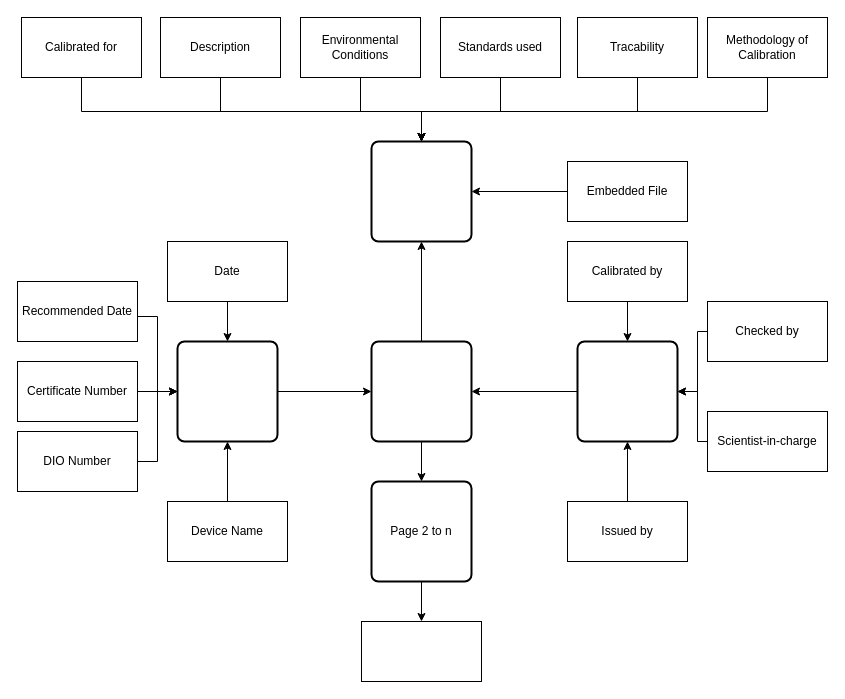
Image size: 845x699. Some labels were removed from this diagram. Here are the shapes that lost their labels. From the top down, the centre of each, then its label:
(421,191): Page 1
(227,391): Header
(421,391): Template
(627,391): Footer
(421,651): Tables
